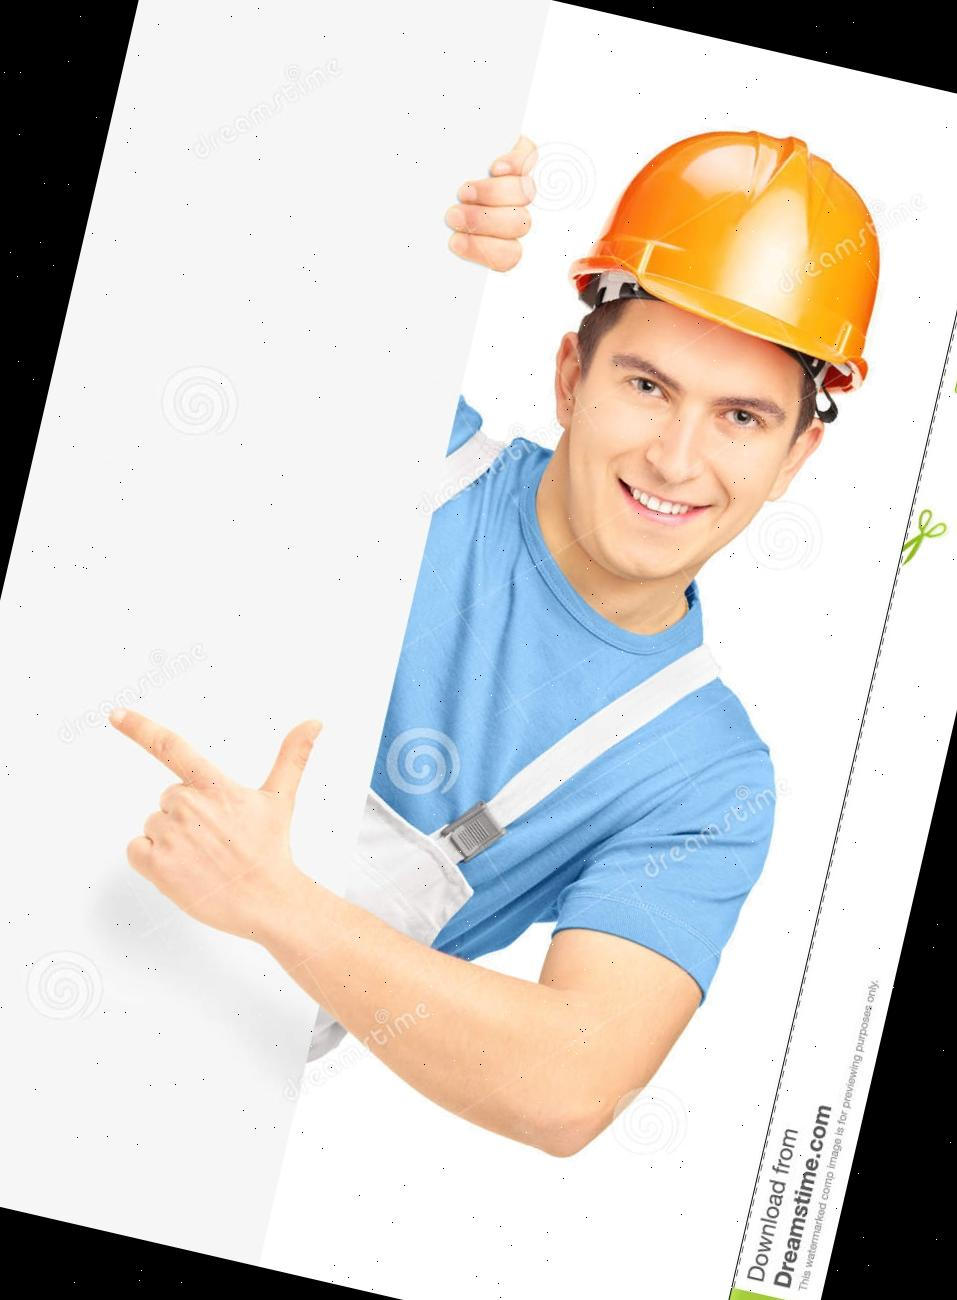helmet: (557, 92, 919, 392)
no_wear: (320, 507, 791, 1062)
